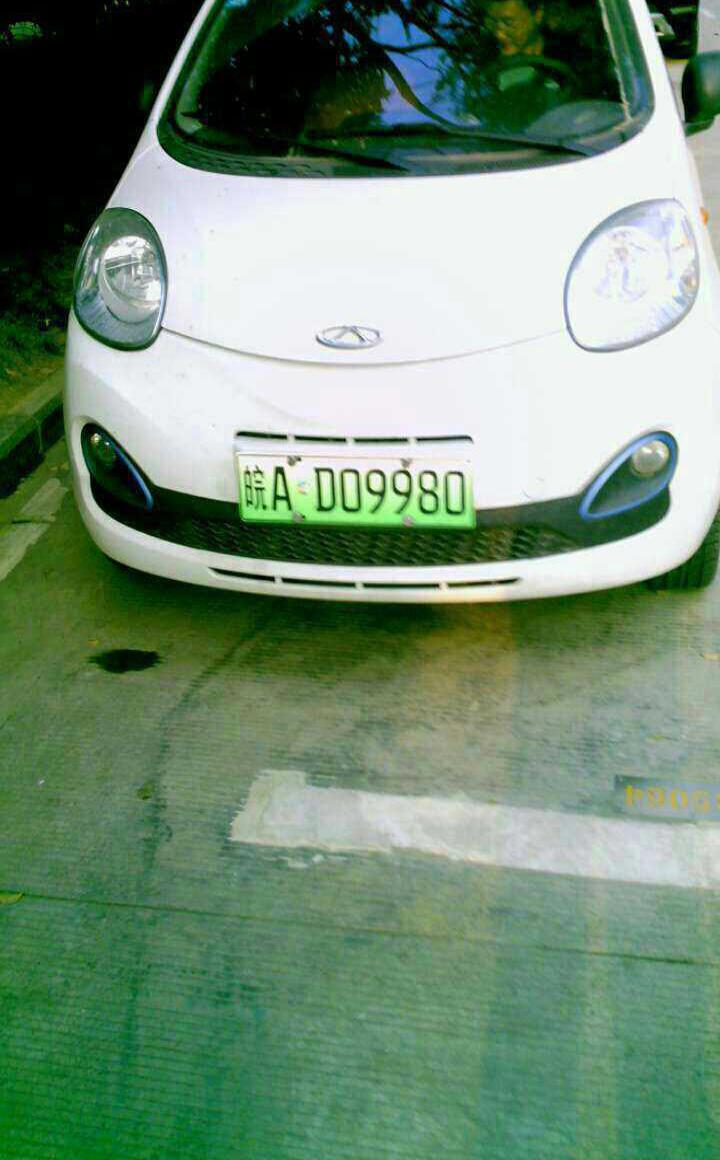car: (239, 451, 482, 534)
